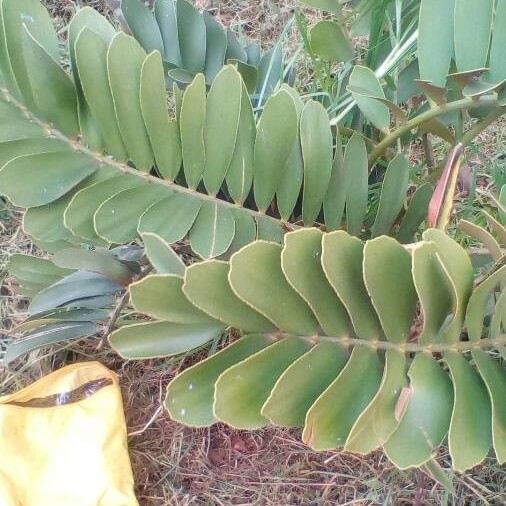obstacle: (17, 31, 430, 269), (106, 235, 488, 488)
